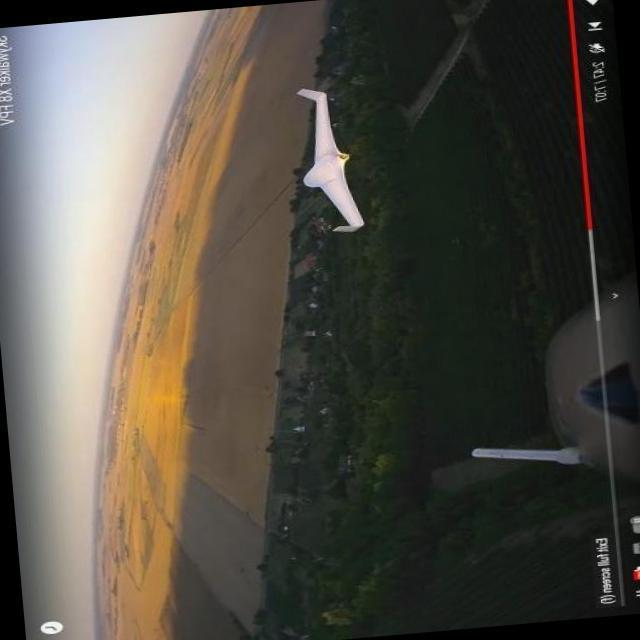iha: (299, 88, 354, 265)
